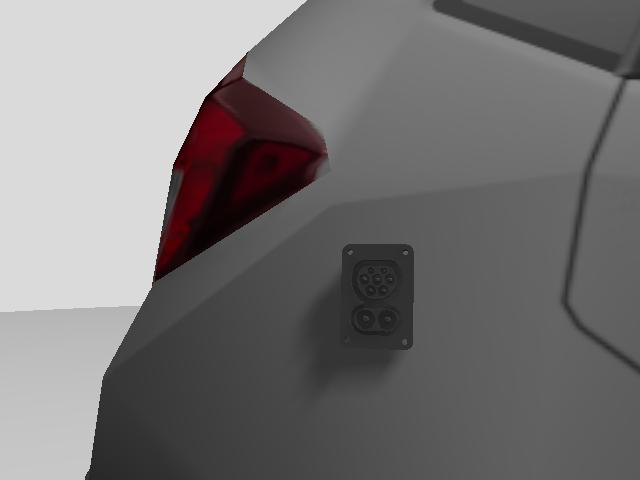EV-socket: (341, 244, 412, 348)
